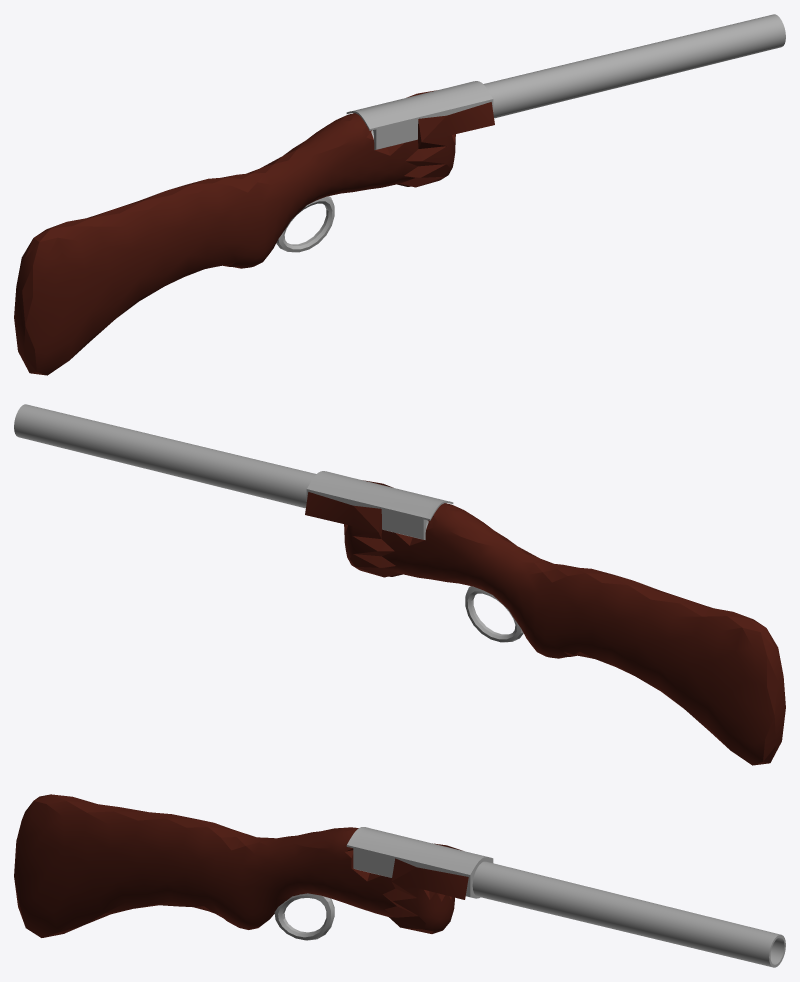
The model's file is Gun 2.fbx.
3 renders of one model, top to bottom at view 1: azimuth 30°, elevation 25°; view 2: azimuth 150°, elevation 25°; view 3: azimuth 330°, elevation 25°, orthographic.
Visible parts, largest first — view 1: Torus; view 2: Torus; view 3: Torus.
Part boxes in pixels (x1,y1,x2,y2): Torus: (14,14,785,375); Torus: (14,404,785,765); Torus: (14,794,785,967).
Size of the model in its own units: 360 by 83.27 by 24.63.
